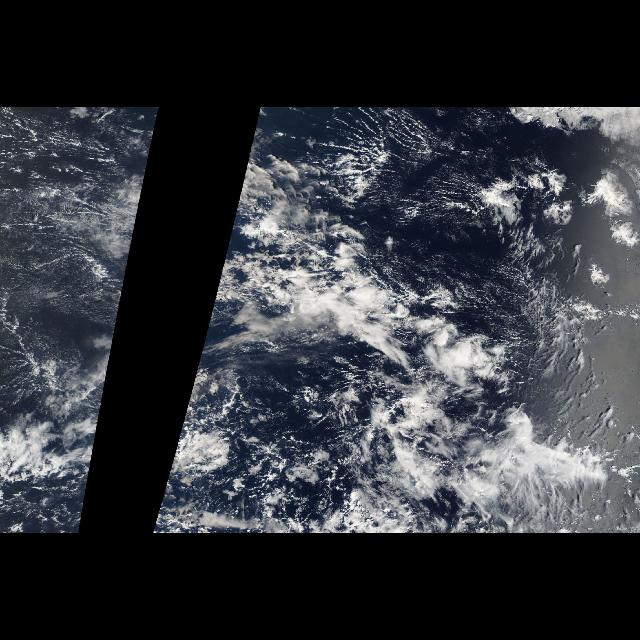Gravel: (223, 366, 389, 530)
